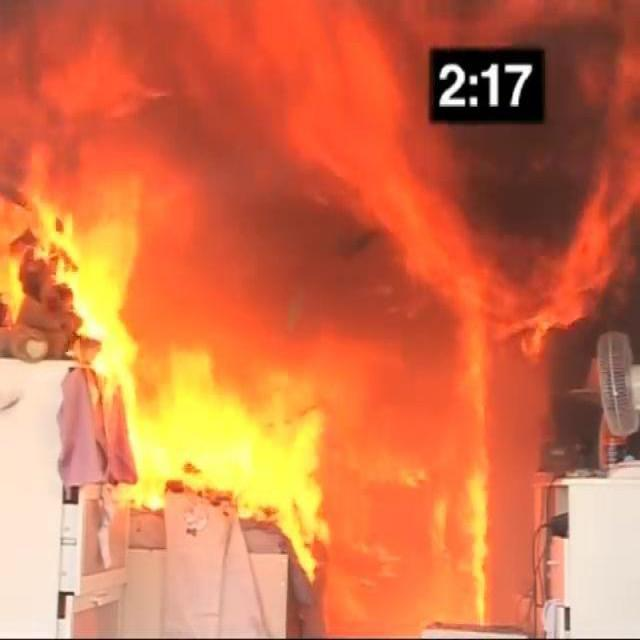fire: (22, 184, 358, 581)
